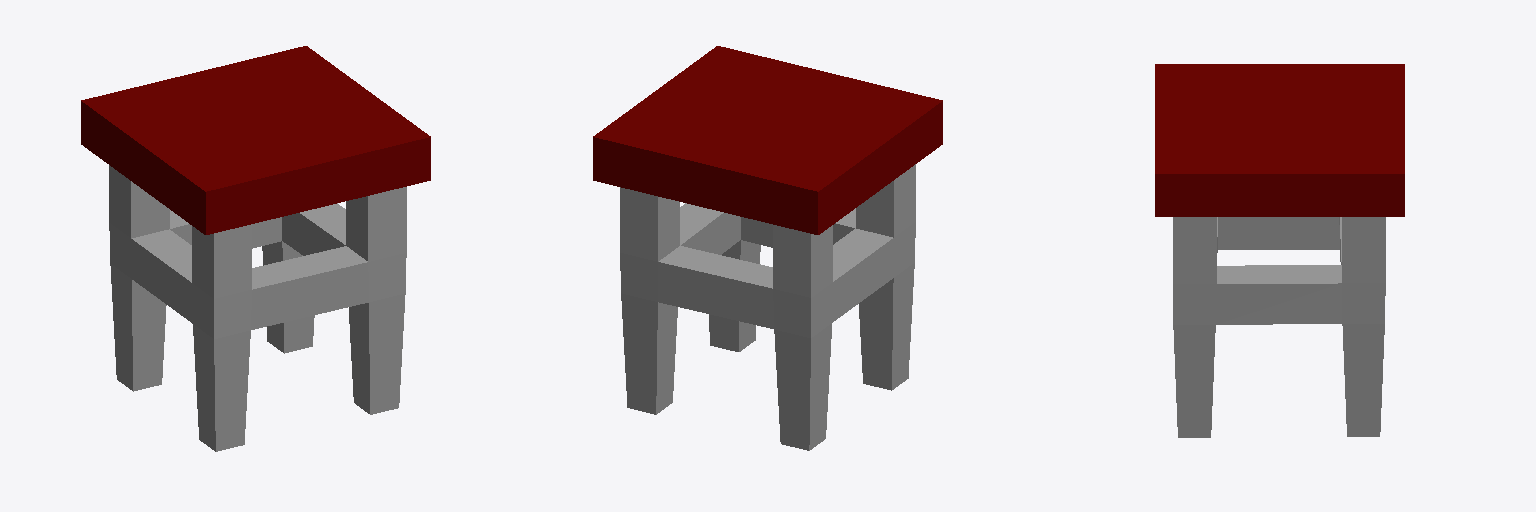
Rendered from chair.obj.
The picture shows the model from 3 angles: view 1: azimuth 30°, elevation 25°; view 2: azimuth 150°, elevation 25°; view 3: azimuth 270°, elevation 25°; orthographic projection.
Parts seen in each view (by area): view 1: Cube.151_Cube.179; view 2: Cube.151_Cube.179; view 3: Cube.151_Cube.179.
Boxes of the visible parts, x1=… form: Cube.151_Cube.179: x1=81, y1=46, x2=430, y2=451; Cube.151_Cube.179: x1=593, y1=46, x2=942, y2=450; Cube.151_Cube.179: x1=1155, y1=64, x2=1404, y2=437.
Size of the model in its own units: 0.0596 by 0.0693 by 0.0571.